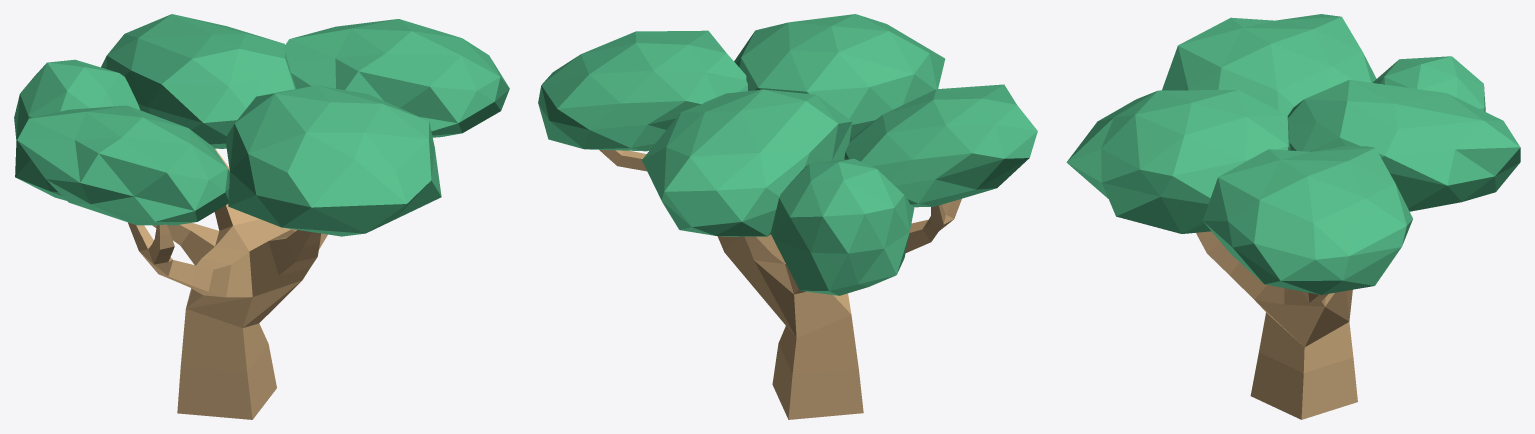
File: Tree Low Poly 3.fbx
The picture shows the model from 3 angles, left to right: view 1: azimuth 30°, elevation 25°; view 2: azimuth 150°, elevation 25°; view 3: azimuth 270°, elevation 25°; orthographic projection. The views are drawn at different scales.
Parts seen in each view (by area): view 1: Icosphere.005, Plane, Icosphere.004, Icosphere.003, Icosphere.006, Icosphere.002; view 2: Icosphere.006, Icosphere.003, Icosphere.004, Icosphere.005, Icosphere.002, Plane; view 3: Icosphere.003, Icosphere.005, Icosphere.006, Icosphere.004, Plane, Icosphere.002.
Part boxes in pixels (x1,y1,x2,y2): Icosphere.005: (225, 85, 441, 236); Plane: (128, 148, 327, 419); Icosphere.004: (17, 105, 229, 225); Icosphere.003: (282, 19, 509, 137); Icosphere.006: (101, 14, 296, 148); Icosphere.002: (14, 59, 139, 200); Icosphere.006: (642, 89, 852, 236); Icosphere.003: (538, 30, 747, 151); Icosphere.004: (844, 84, 1037, 207); Icosphere.005: (734, 14, 945, 140); Icosphere.002: (770, 158, 914, 295); Plane: (599, 149, 961, 419); Icosphere.003: (1202, 146, 1412, 294); Icosphere.005: (1066, 90, 1290, 233); Icosphere.006: (1287, 80, 1520, 211); Icosphere.004: (1162, 14, 1376, 115); Plane: (1196, 231, 1357, 419); Icosphere.002: (1373, 56, 1485, 111).
Size of the model in its own units: 728 by 491 by 633.
